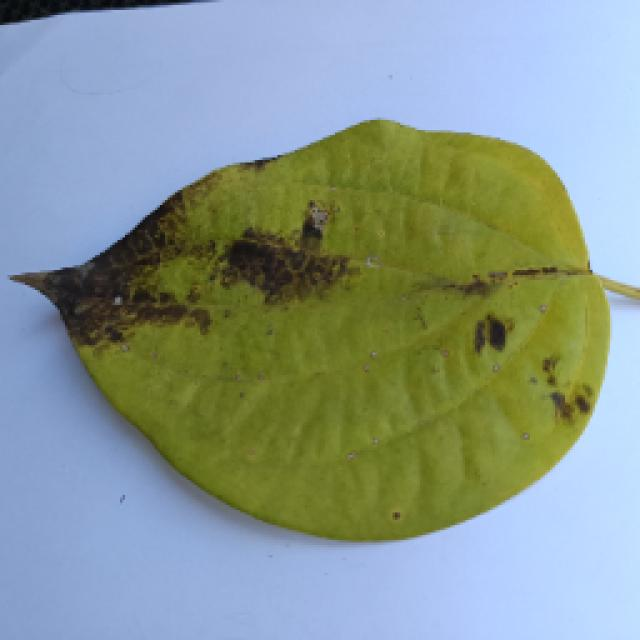slow-decline: (0, 118, 618, 542)
